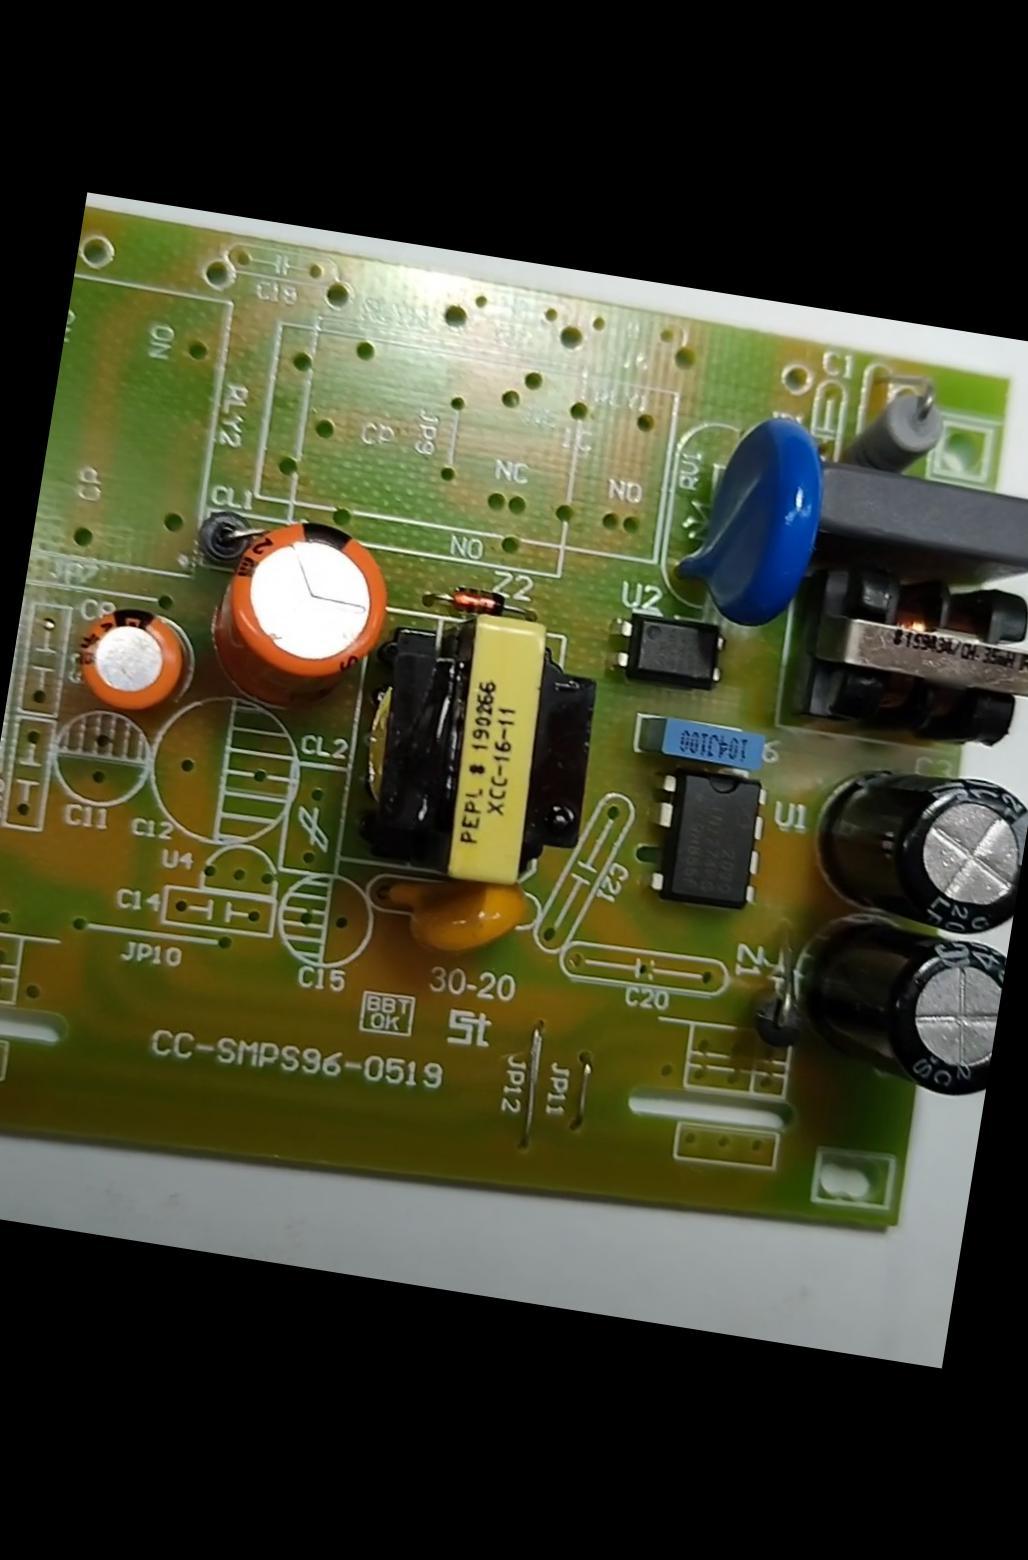Cap1: (210, 508, 397, 695)
Cap2: (67, 600, 188, 715)
Cap3: (807, 750, 1027, 943)
Cap4: (791, 910, 1008, 1103)
MOSFET: (642, 759, 773, 914)
Mov: (664, 405, 830, 634)
Resistor: (838, 374, 952, 490)
Transformer: (346, 592, 613, 899), (779, 540, 1027, 755)
